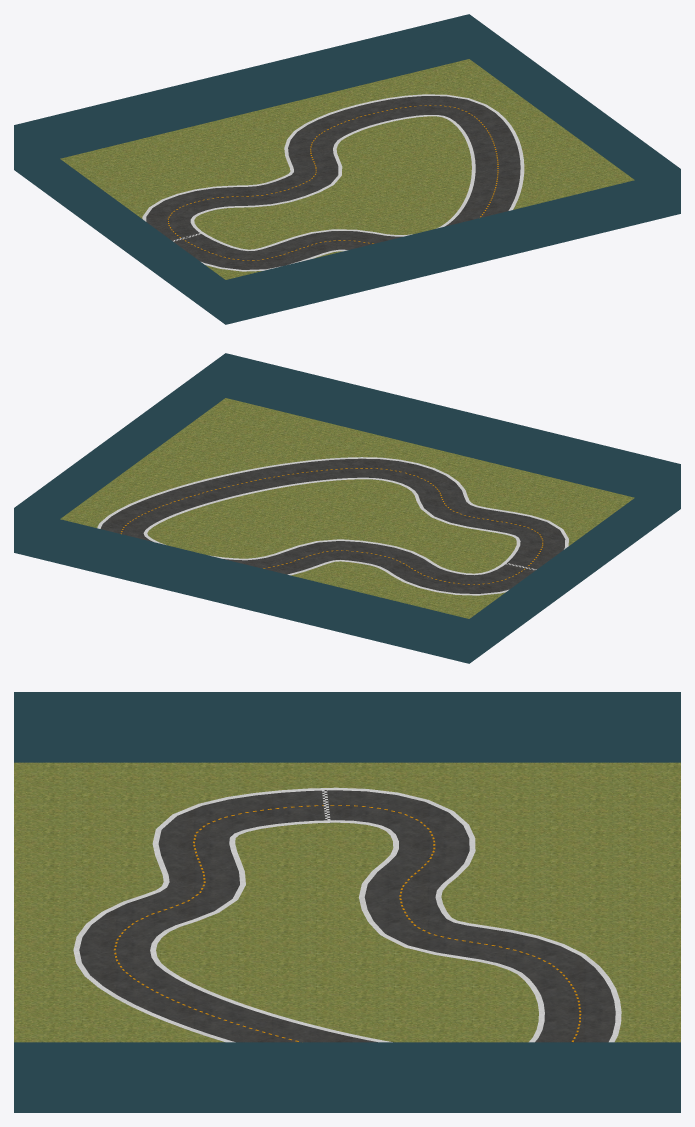
Rendered from reInvent2019_track_ccw.dae.
The picture shows the model from 3 angles, top to bottom: view 1: azimuth 30°, elevation 25°; view 2: azimuth 150°, elevation 25°; view 3: azimuth 270°, elevation 25°; orthographic projection. The views are drawn at different scales.
Visible parts, largest first — view 1: wall, field, road, ol, il, cl; view 2: wall, field, road, ol, il, cl; view 3: field, wall, road, il, ol, cl.
Part boxes in pixels (x1=…): wall: x1=14, y1=14, x2=680, y2=324; field: x1=60, y1=59, x2=634, y2=279; road: x1=146, y1=96, x2=520, y2=269; ol: x1=190, y1=115, x2=475, y2=250; il: x1=142, y1=94, x2=524, y2=271; cl: x1=168, y1=105, x2=498, y2=260; wall: x1=14, y1=353, x2=680, y2=663; field: x1=60, y1=398, x2=634, y2=618; road: x1=100, y1=458, x2=565, y2=595; ol: x1=143, y1=477, x2=520, y2=575; il: x1=97, y1=457, x2=568, y2=595; cl: x1=120, y1=468, x2=543, y2=584; field: x1=14, y1=762, x2=680, y2=1042; wall: x1=14, y1=692, x2=680, y2=1112; road: x1=79, y1=790, x2=615, y2=1042; il: x1=73, y1=787, x2=621, y2=1042; ol: x1=150, y1=820, x2=544, y2=1042; cl: x1=114, y1=805, x2=581, y2=1041.
Size of the model in its own units: 10.63 by 8.56 by 1.
7 materials, 7 textured.
